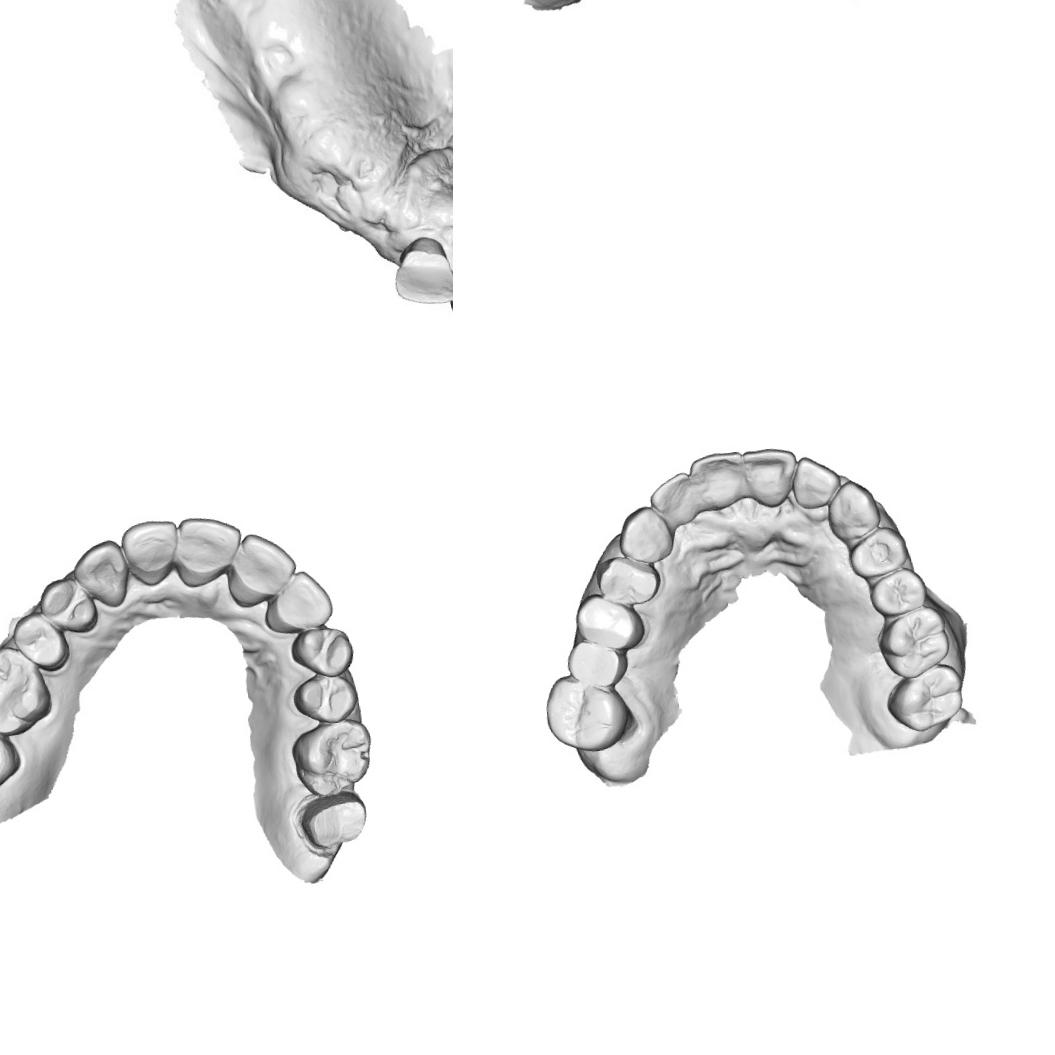canine: (68, 534, 134, 614), (613, 499, 678, 568), (822, 476, 884, 542)
crown: (295, 788, 375, 855)
incisor: (377, 220, 453, 323), (217, 526, 303, 612), (170, 510, 246, 590), (258, 565, 336, 640), (116, 514, 184, 591), (686, 447, 750, 513), (743, 442, 803, 511), (645, 469, 705, 532), (788, 451, 846, 513)
molar: (536, 666, 636, 758), (286, 715, 378, 804), (872, 602, 956, 683), (882, 660, 970, 735), (0, 641, 56, 741), (562, 632, 632, 690), (0, 707, 26, 796)
premolar: (568, 588, 650, 656), (34, 572, 101, 639), (288, 670, 364, 728), (9, 608, 72, 676), (594, 550, 665, 610), (843, 522, 914, 582), (288, 623, 358, 682), (865, 565, 933, 619)
